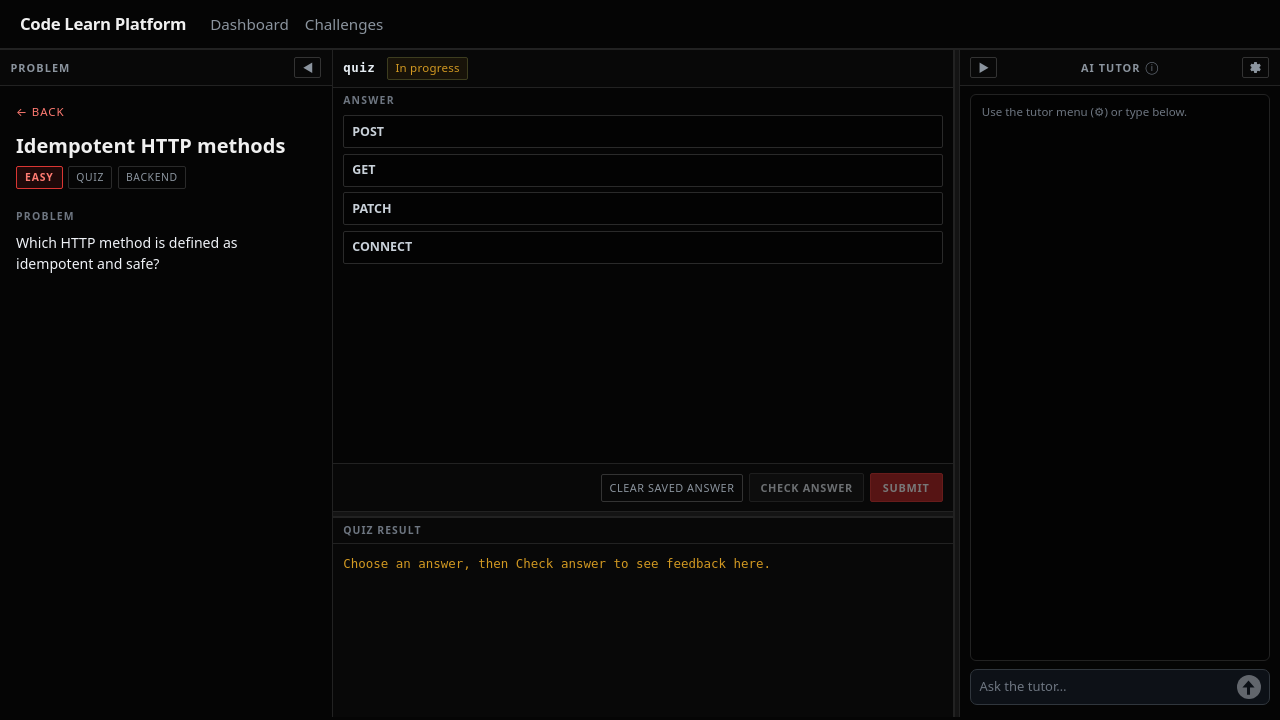
Test case: challenges app › quiz interaction shows feedback
Check: the heading "Idempotent HTTP methods" is shown, box left=16, top=133, right=316, bottom=158
Check the radio button labelled "GET" at (364, 170), box left=343, top=154, right=942, bottom=187
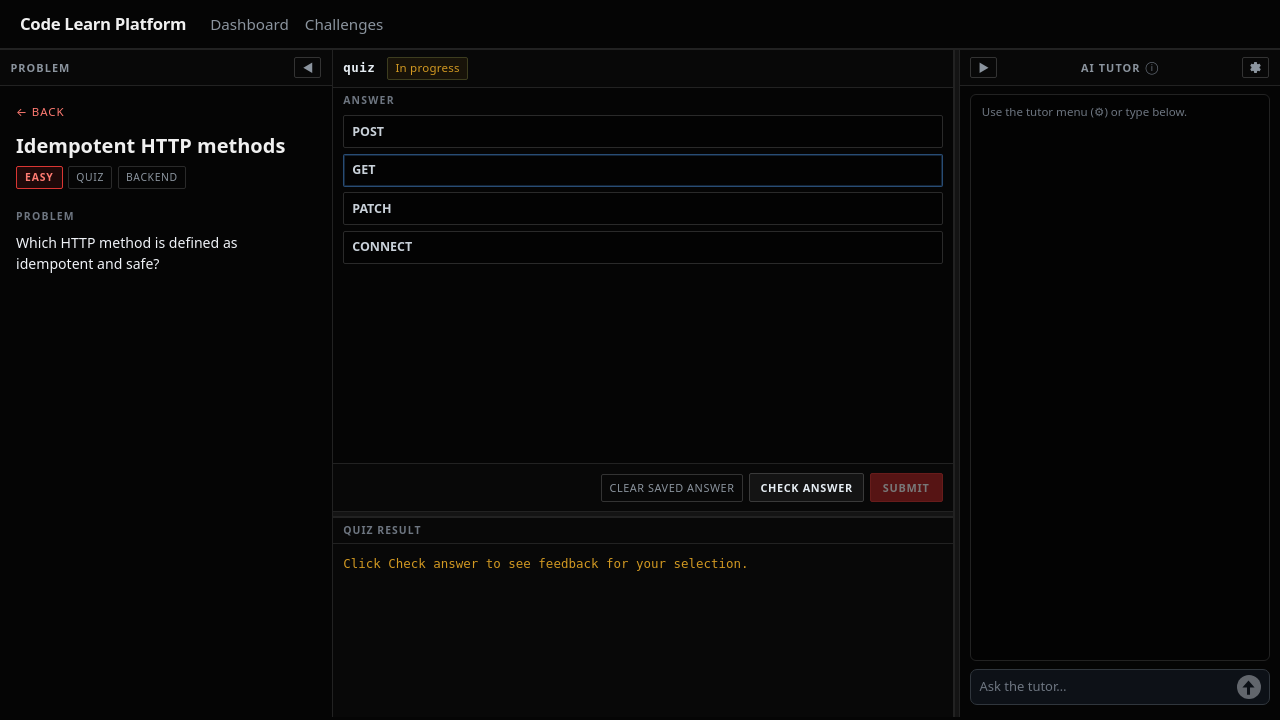
Click the button with test id "quiz-check" at (807, 488), box left=749, top=473, right=864, bottom=502
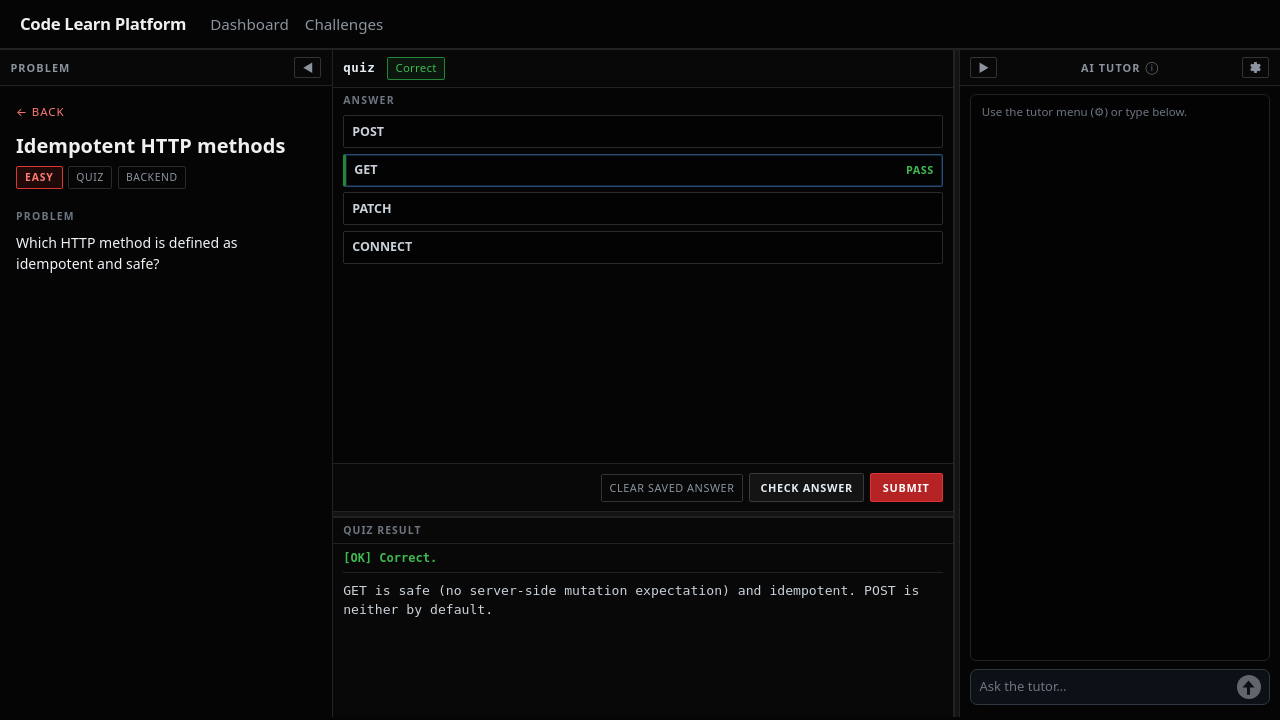
Check: the text "Correct" is shown, box left=387, top=57, right=445, bottom=80
